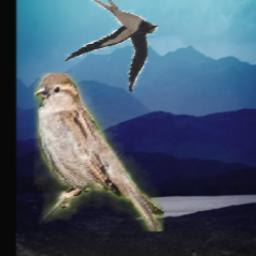Sparrow: (35, 73, 165, 231)
Swallow: (66, 0, 159, 94)
